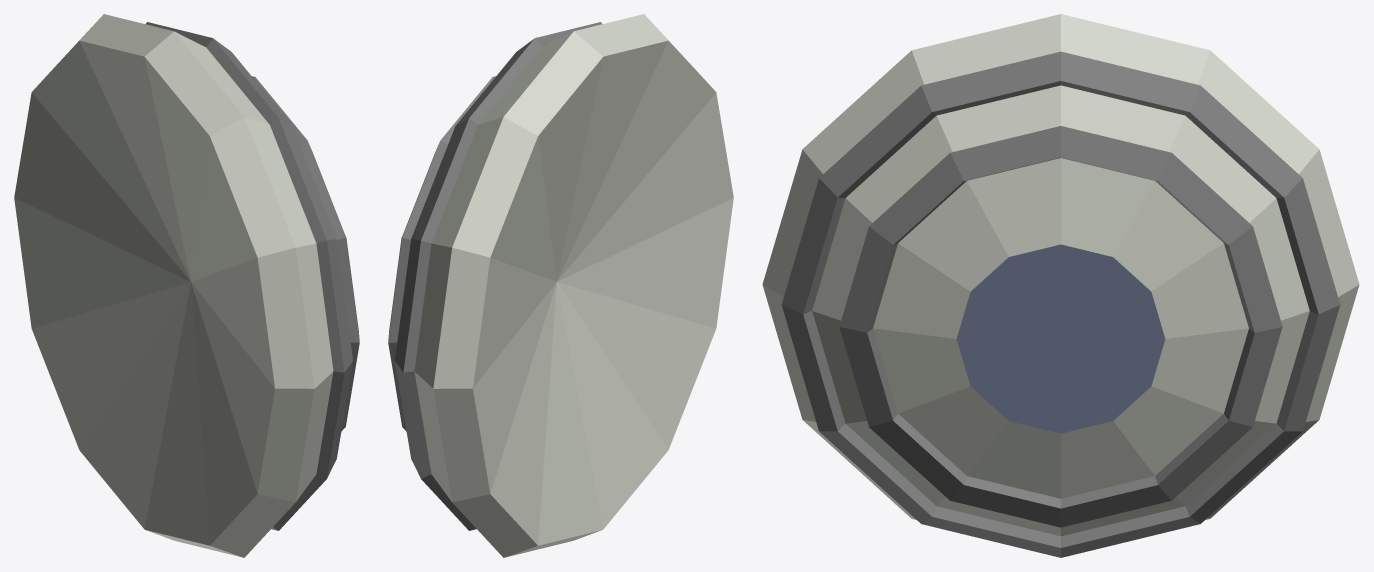
Rendered from door.fbx.
The picture shows the model from 3 angles, left to right: view 1: azimuth 30°, elevation 25°; view 2: azimuth 150°, elevation 25°; view 3: azimuth 270°, elevation 25°; orthographic projection. The views are drawn at different scales.
Visible parts, largest first — view 1: door; view 2: door; view 3: door.
Part boxes in pixels (x1=…): door: x1=14, y1=14, x2=359, y2=557; door: x1=388, y1=14, x2=733, y2=557; door: x1=762, y1=14, x2=1359, y2=557.
Size of the model in its own units: 56.84 by 206 by 206.
